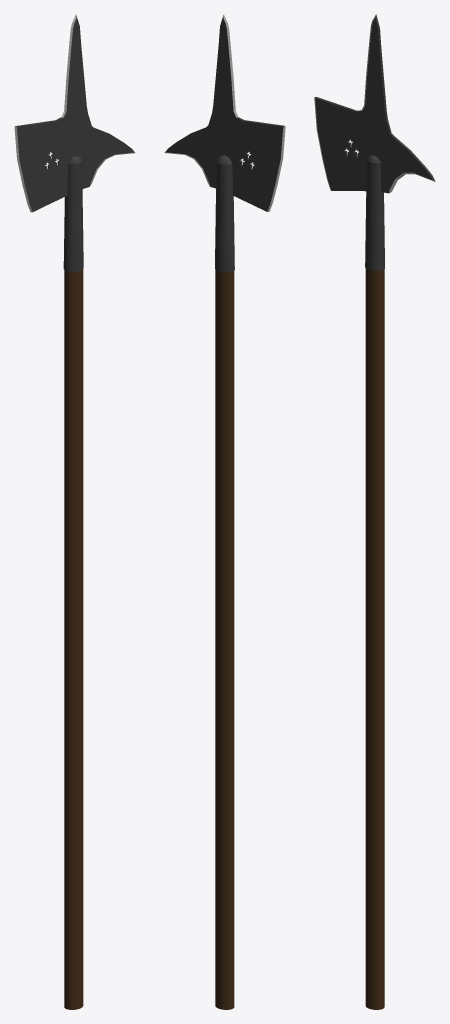
Rendered from hlbr_krz.fbx.
The picture shows the model from 3 angles, left to right: view 1: azimuth 30°, elevation 25°; view 2: azimuth 150°, elevation 25°; view 3: azimuth 330°, elevation 25°; orthographic projection.
Visible parts, largest first — view 1: Walec; view 2: Walec; view 3: Walec.
Boxes of the visible parts, <box> form: Walec: <box>14,14,134,1009</box>; Walec: <box>164,14,285,1009</box>; Walec: <box>314,14,435,1009</box>.
Bounding box in the file's own units: 306 × 2392 × 38.32.
